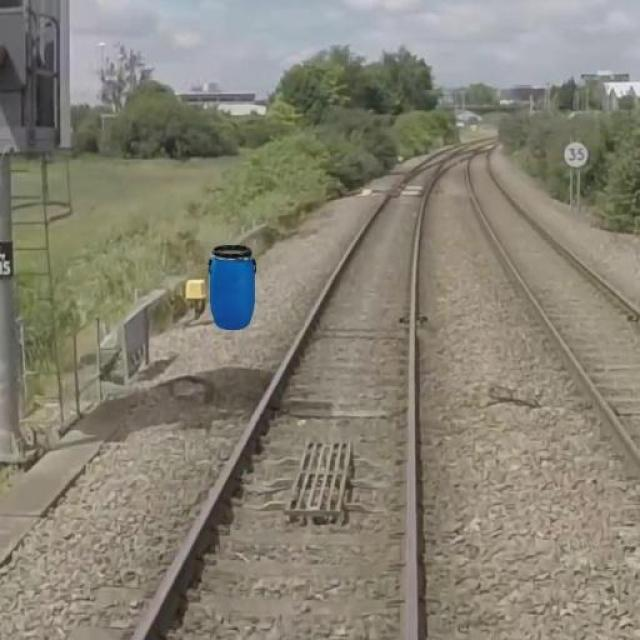Other_objects: (205, 243, 266, 330)
